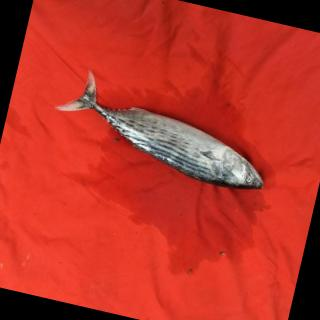Ikan: (52, 54, 302, 218)
